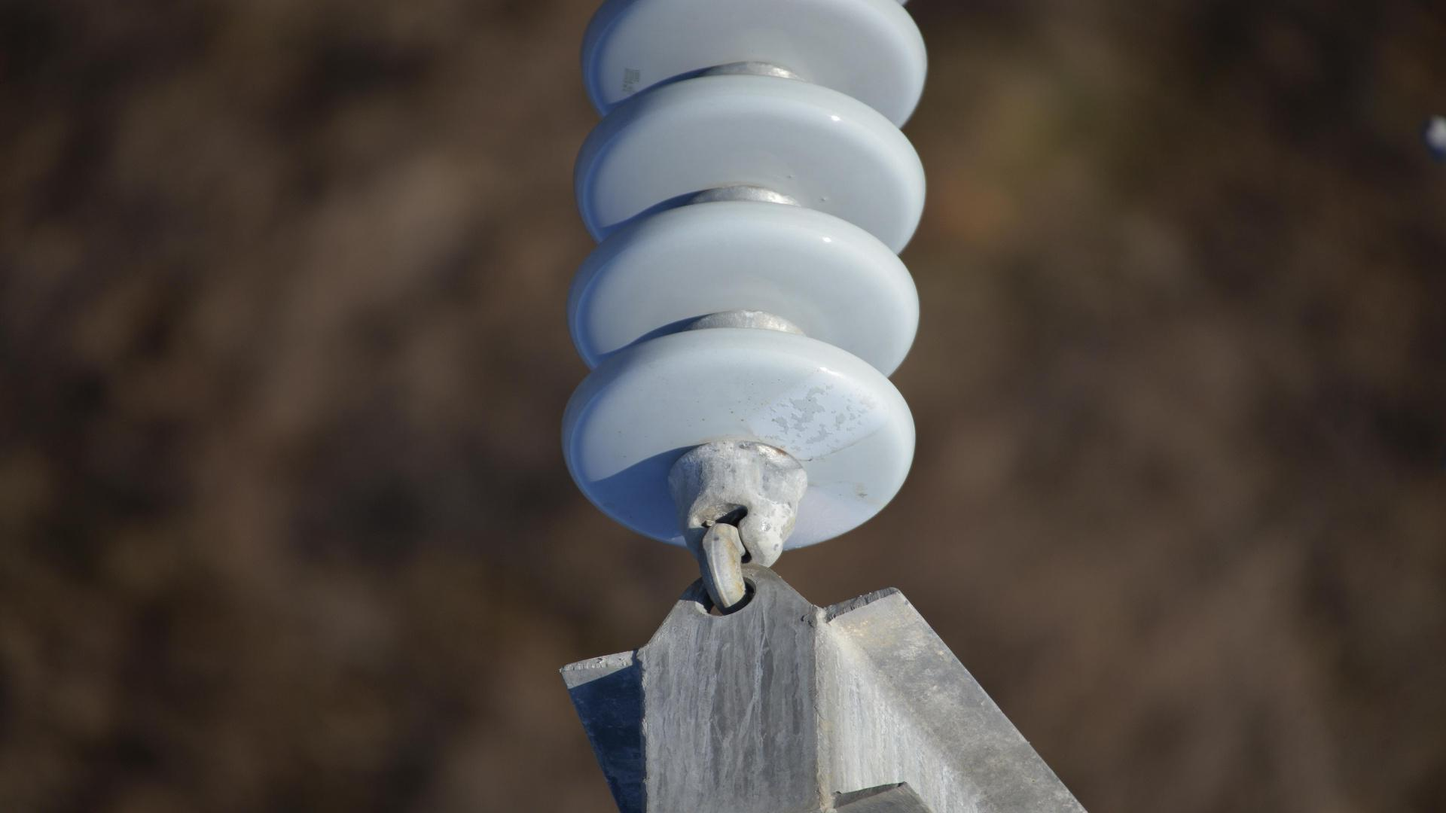insulator: (554, 1, 938, 555)
insulator_flashover: (743, 363, 892, 463)
